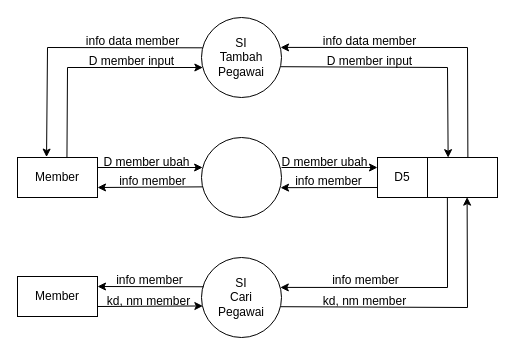
The diagram is 515 pixels wide and 355 high, and some of its shapes have lost their labels. Each missing label, with the centre of its shape:
Pegawai: (462,177)
SI Ubah Pegawai: (241,177)
